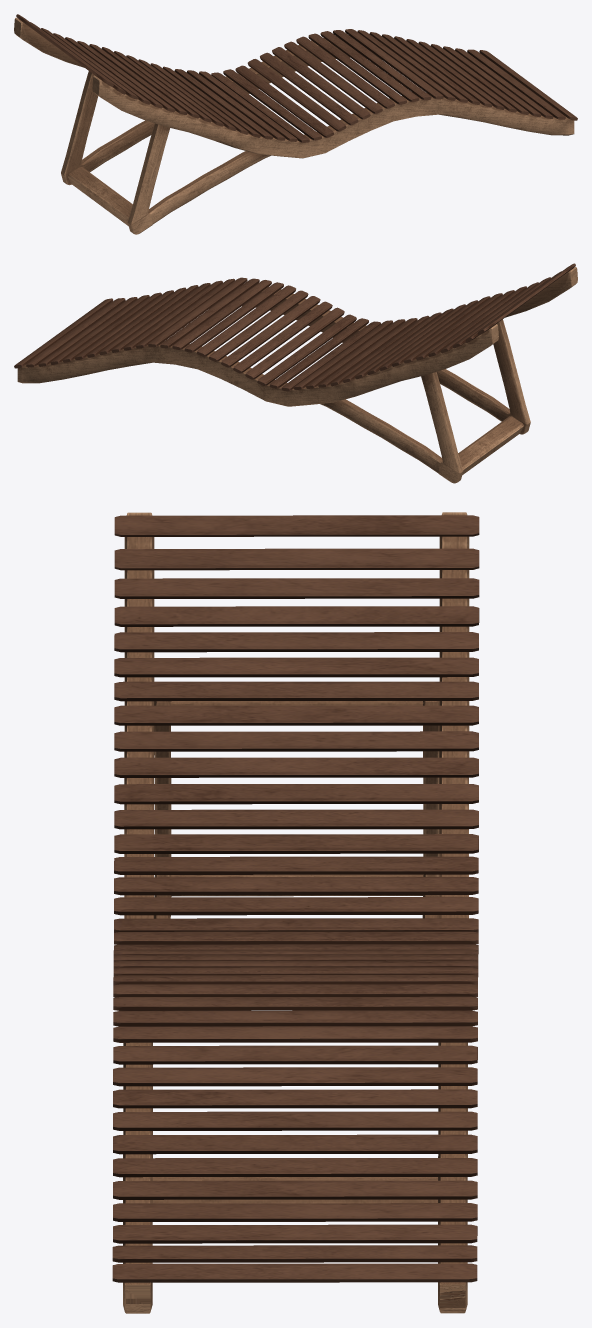
Rendered from wooden_lounge_chair_beach_sun_lounger.glb.
3 views of the same model, one above another, from view 1: azimuth 30°, elevation 25°; view 2: azimuth 150°, elevation 25°; view 3: azimuth 270°, elevation 25° (orthographic). The views are drawn at different scales.
Parts seen in each view (by area): view 1: Wood_u, Wood_d; view 2: Wood_u, Wood_d; view 3: Wood_u, Wood_d.
Boxes of the visible parts, x1,y1,x2,y2 form: Wood_u: (16,14,577,142); Wood_d: (14,17,574,234); Wood_u: (14,263,575,391); Wood_d: (17,267,577,483); Wood_u: (112,515,479,1282); Wood_d: (123,512,469,1313).
Bounding box in the file's own units: 2.12 × 0.7282 × 0.7068.
2 materials, 2 textured.
